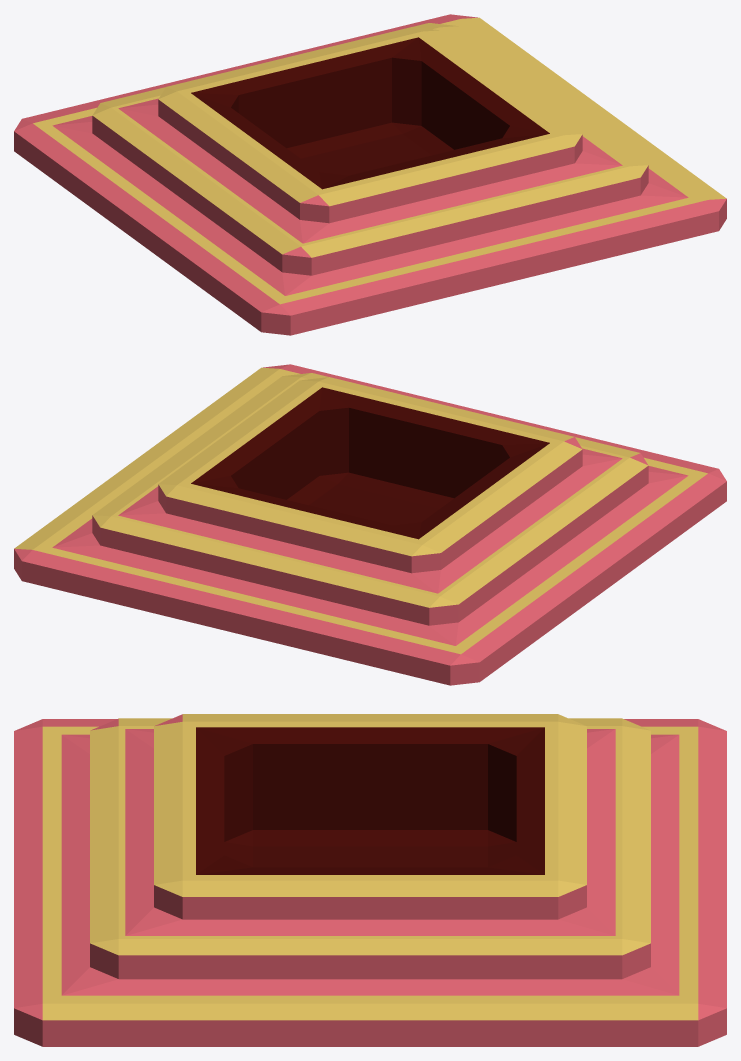
File: Procedure0.fbx
The picture shows the model from 3 angles, top to bottom: view 1: azimuth 30°, elevation 25°; view 2: azimuth 150°, elevation 25°; view 3: azimuth 270°, elevation 25°; orthographic projection. The views are drawn at different scales.
Visible parts, largest first — view 1: Cube.025; view 2: Cube.025; view 3: Cube.025.
Boxes of the visible parts, box(x1,y1,x2,y2) form: Cube.025: box(14, 14, 726, 335); Cube.025: box(14, 364, 726, 685); Cube.025: box(14, 714, 726, 1046).
Size of the model in its own units: 453 by 69.75 by 453.
